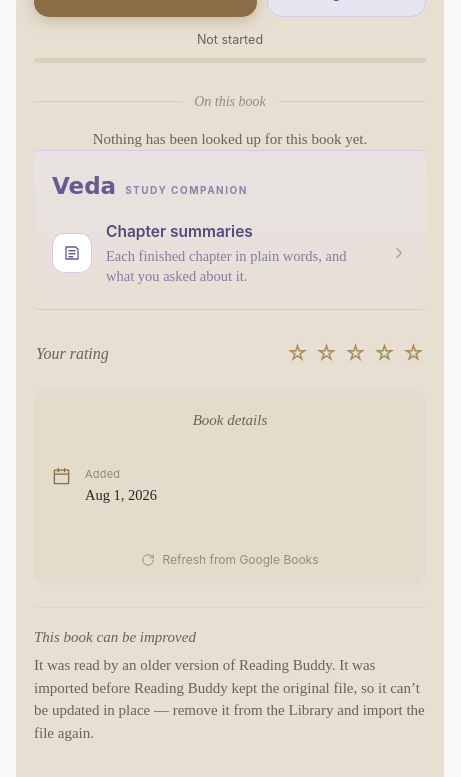
Test: BookInfo › refreshing from Google Books › comes back and says why when the lookup throws
(page scrolled)
Click the button "Refresh from Google Books" at (230, 556), box [50,535,410,577]
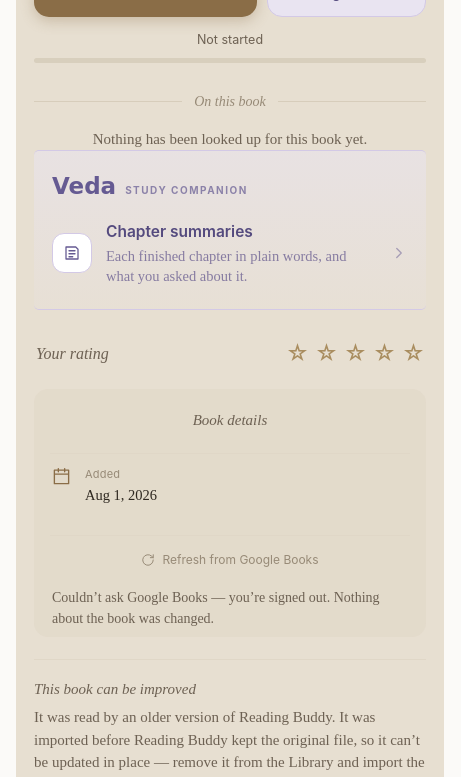
Now the text "you’re signed out" is shown, box [229,590,327,605]
